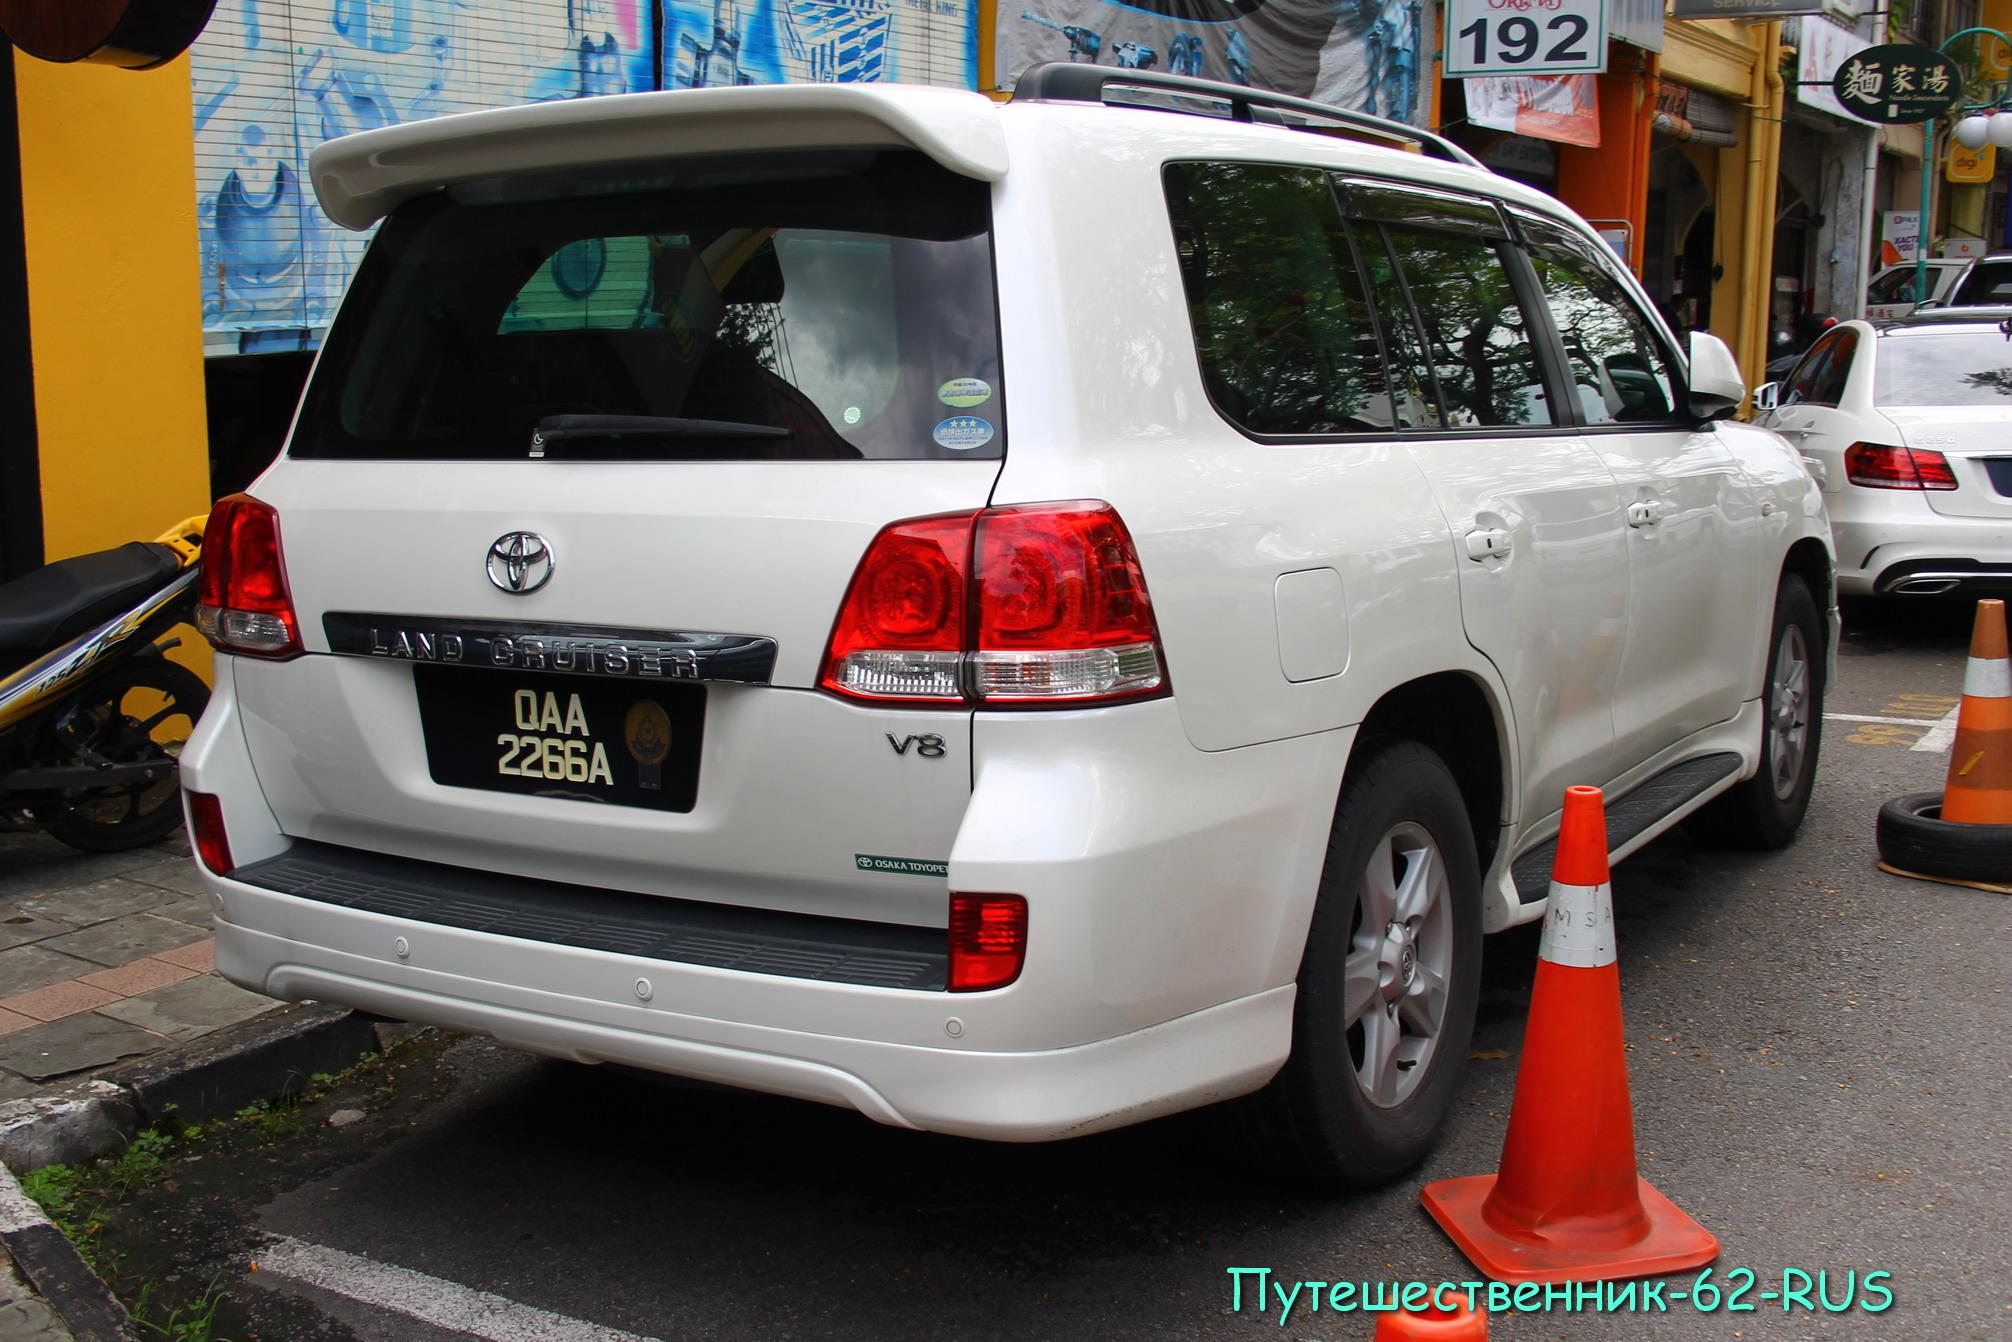License Plate: (432, 665, 704, 816)
